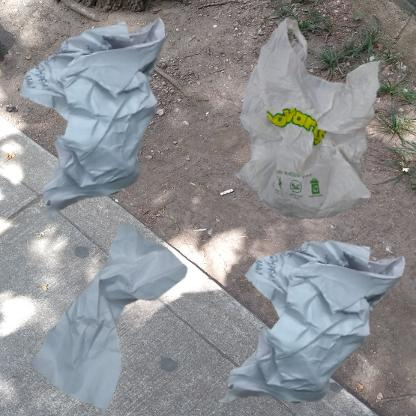bolsa: (213, 10, 416, 259)
papel: (213, 213, 416, 416), (10, 213, 211, 416), (10, 10, 194, 229)
